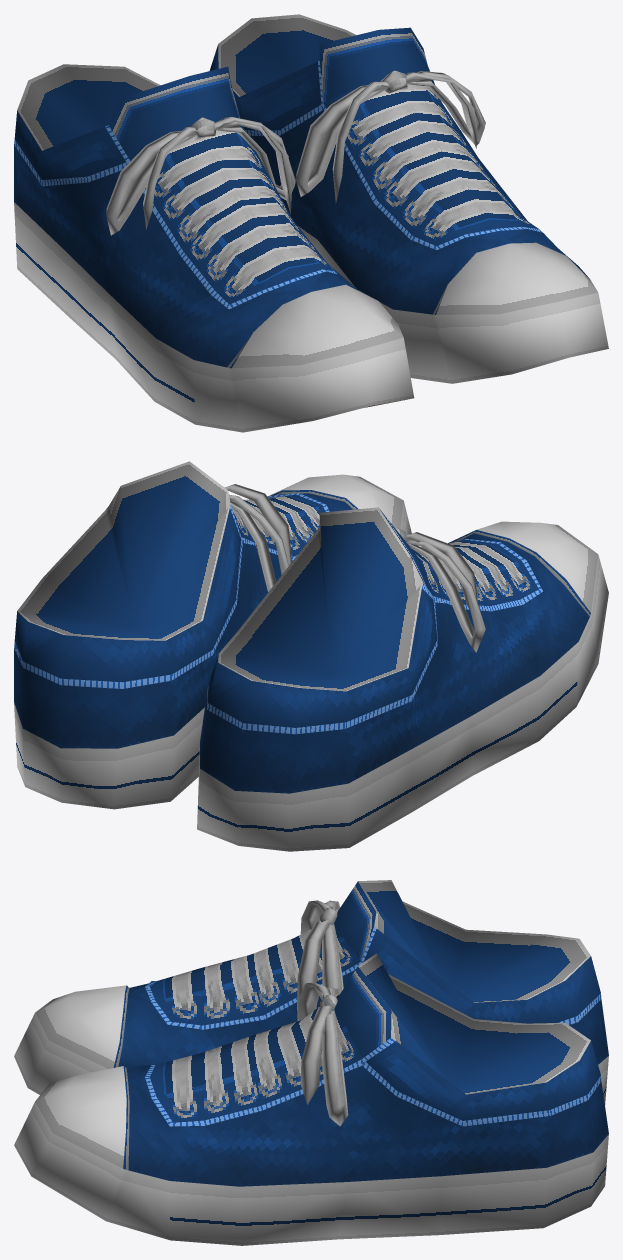
Rendered from shoes.glb.
The picture shows the model from 3 angles, top to bottom: view 1: azimuth 30°, elevation 25°; view 2: azimuth 150°, elevation 25°; view 3: azimuth 270°, elevation 25°; orthographic projection. The views are drawn at different scales.
Visible parts, largest first — view 1: node_id52; view 2: node_id52; view 3: node_id52.
Boxes of the visible parts, x1,y1,x2,y2 form: node_id52: [14, 14, 608, 432]; node_id52: [14, 461, 608, 851]; node_id52: [14, 880, 608, 1245].
Bounding box in the file's own units: 0.512 × 0.3254 × 0.7439.
Materials: 1 (1 with a texture image).
